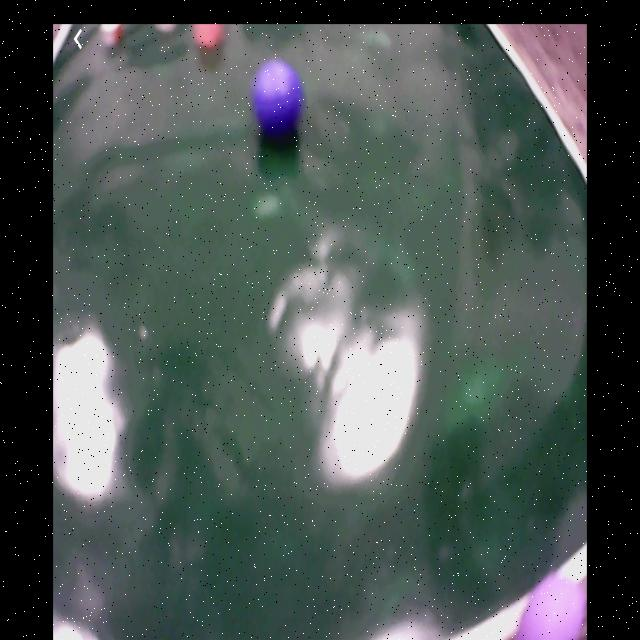ball: (519, 568, 587, 640), (254, 57, 304, 135)
